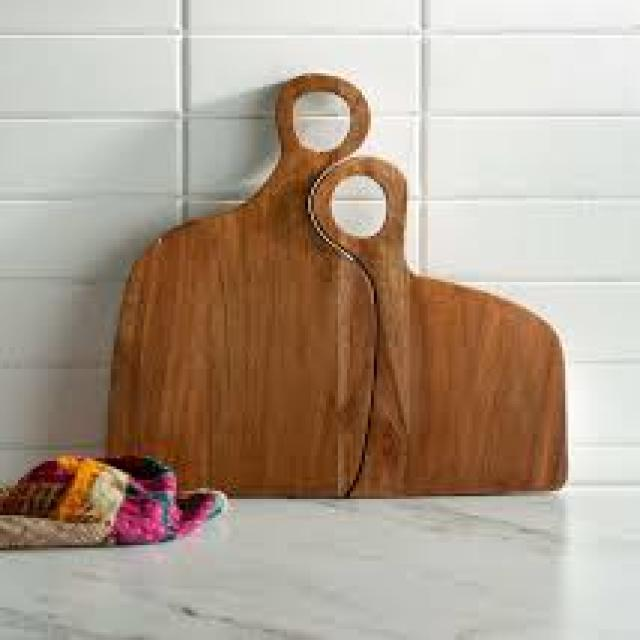Woods: (105, 73, 568, 502)
